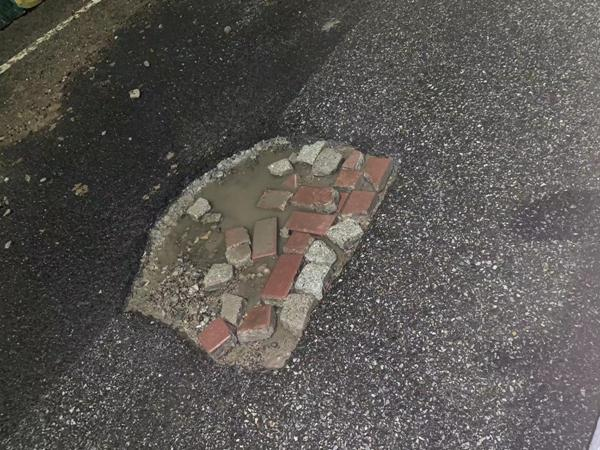pothole: (128, 132, 398, 377)
